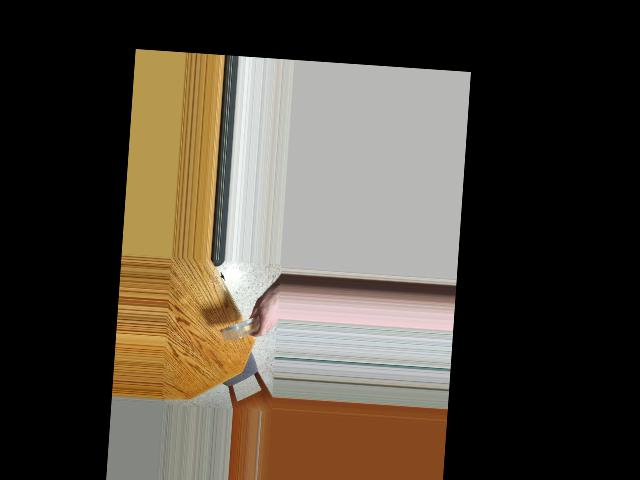cheese: (217, 315, 265, 343)
